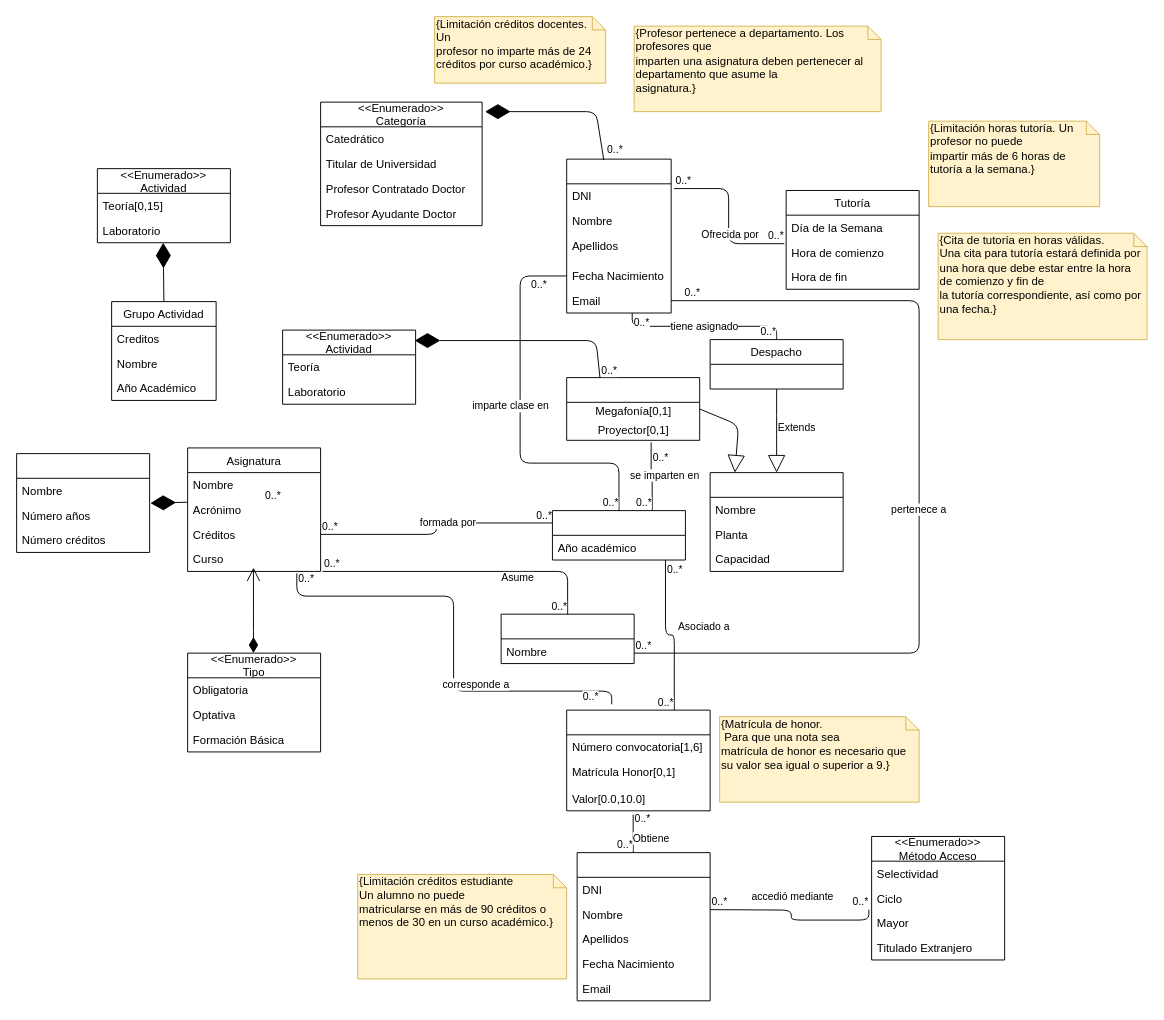
The diagram is 1164 pixels wide and 1020 high, and some of its shapes have lost their labels. The shapes that lost their labels are listed below. From the top down, each one's box as (x1, y1, x2, y2) in pixels, then its label:
(566, 158, 671, 313): Profesor
(566, 377, 700, 440): Aula
(16, 453, 150, 552): Grado
(709, 472, 843, 571): Espacio
(551, 510, 685, 560): Grupo
(500, 613, 634, 664): Departamento
(566, 709, 710, 811): Nota
(576, 852, 710, 1001): Alumno
